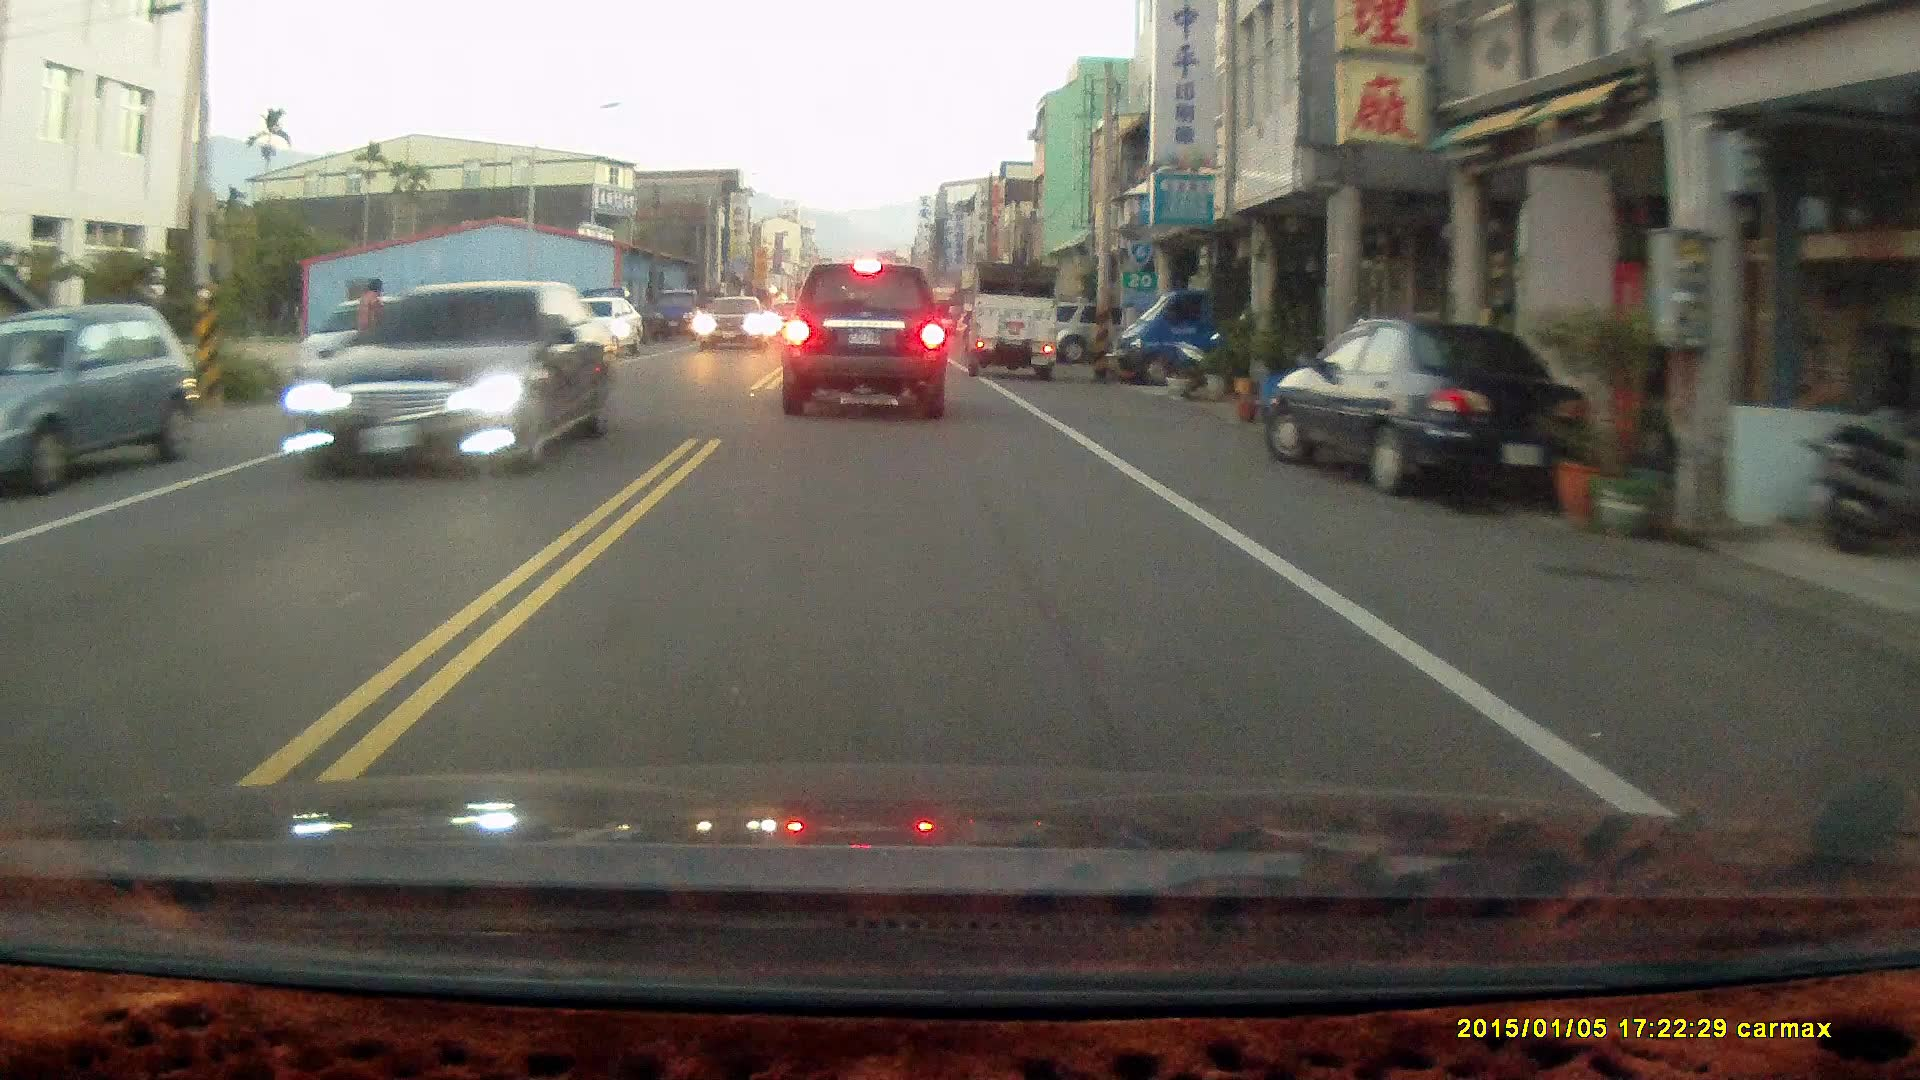vehicle: (270, 282, 624, 477), (1259, 315, 1596, 501), (1, 306, 198, 498), (783, 260, 948, 418), (1106, 268, 1255, 384), (965, 257, 1062, 375), (547, 291, 646, 359), (700, 295, 775, 349), (649, 284, 705, 338)
